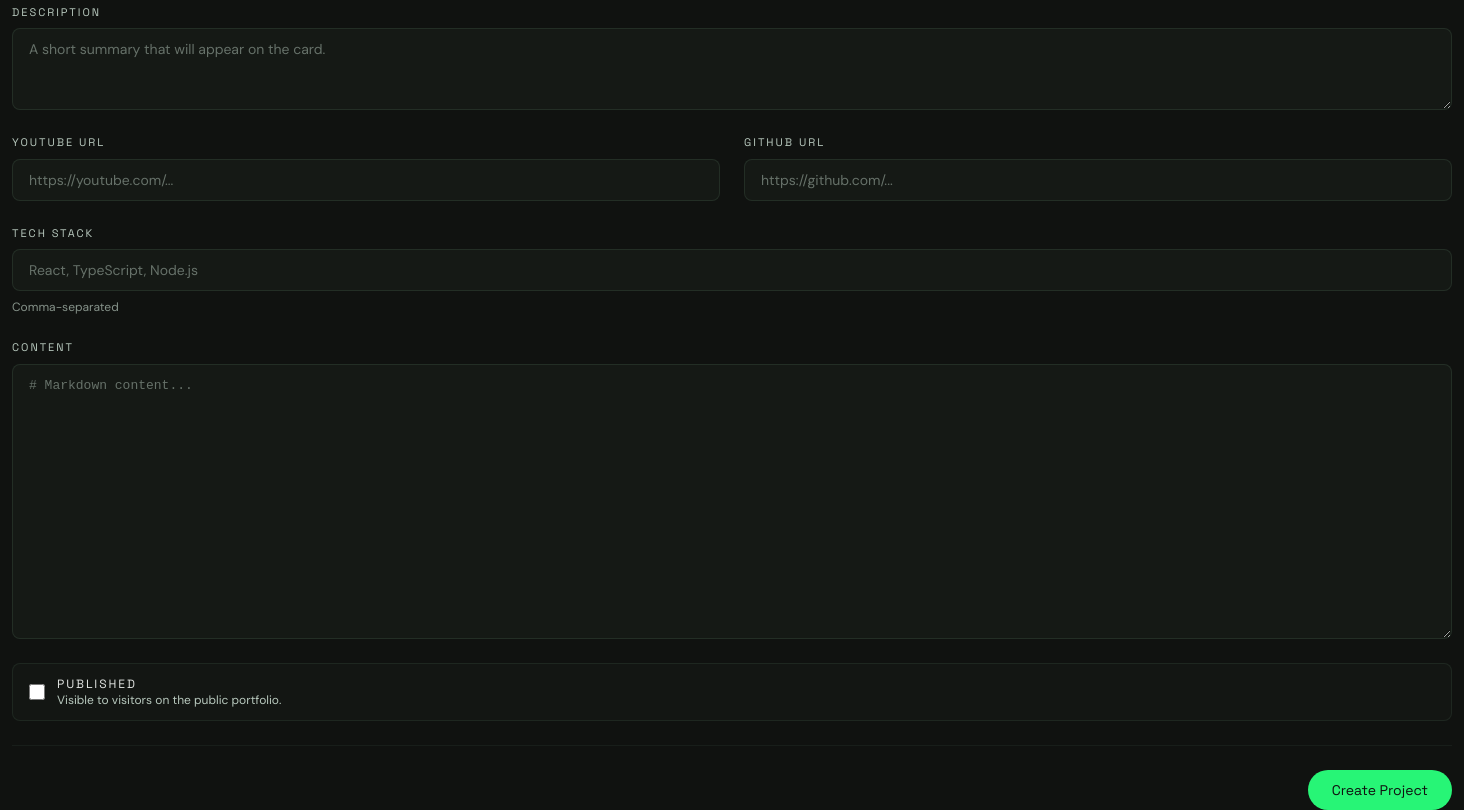
Test: ProjectForm › shows validation errors for required fields on empty submit
(page scrolled)
Click the button "Create Project" at (1380, 790), box top-left (1308, 770), bottom-right (1452, 809)
(page scrolled)
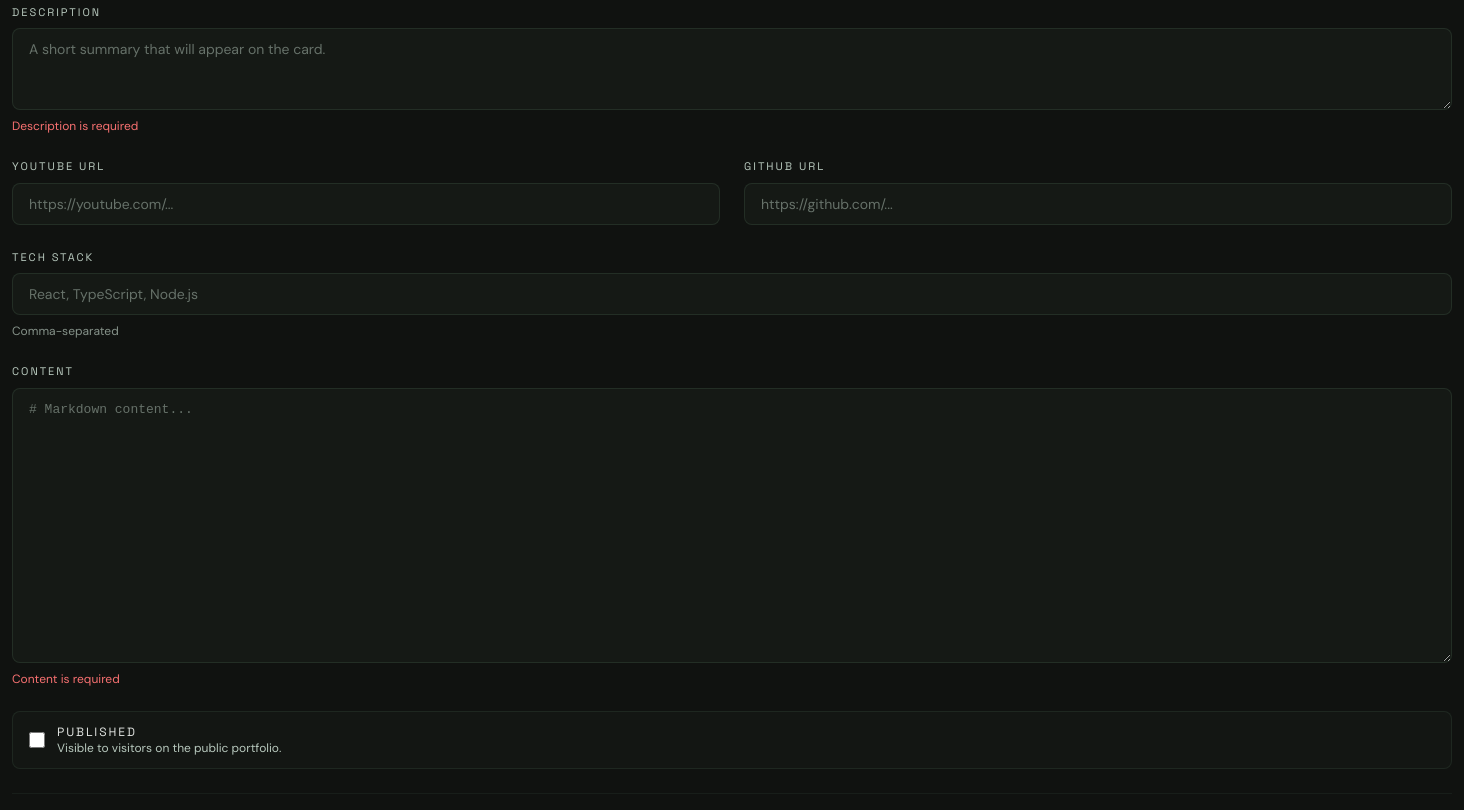
expect the text "Description is required" is shown: met, box top-left (12, 118), bottom-right (138, 134)
expect the text "Content is required" is shown: met, box top-left (12, 671), bottom-right (120, 687)
